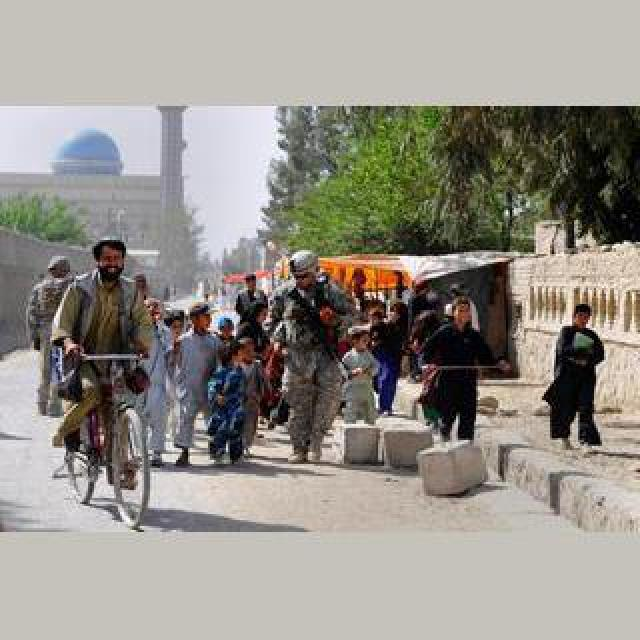MC-Bike: (50, 234, 154, 498), (268, 250, 358, 466), (418, 296, 506, 444), (546, 304, 606, 450), (170, 304, 224, 464), (206, 336, 262, 460), (340, 328, 380, 424), (234, 272, 268, 340)
Person: (54, 352, 150, 530)
